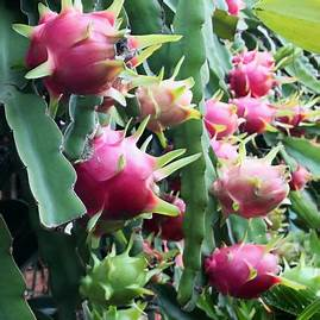thanh_long: (16, 11, 146, 108), (78, 130, 185, 220), (212, 150, 291, 226), (205, 242, 285, 297), (225, 61, 293, 100)
